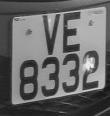2: (81, 48, 101, 92)
3: (39, 53, 63, 100), (60, 51, 83, 96)
8: (17, 54, 42, 103)
E: (59, 7, 83, 57)
V: (39, 11, 64, 59)
